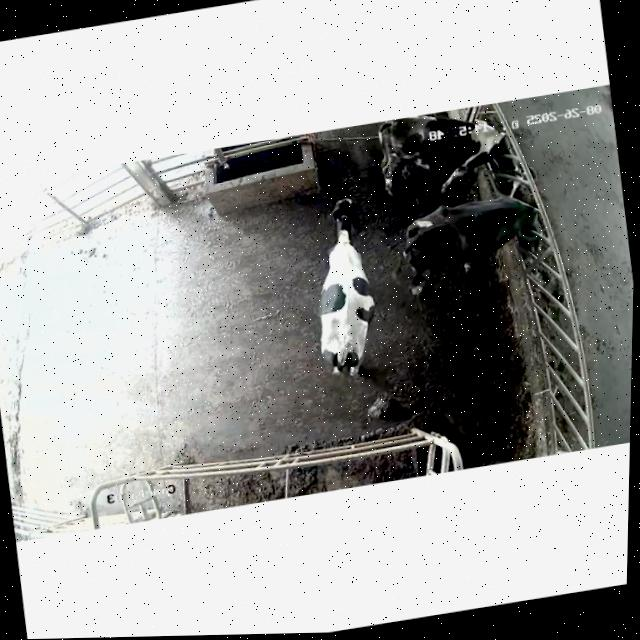stand: (271, 190, 399, 393)
